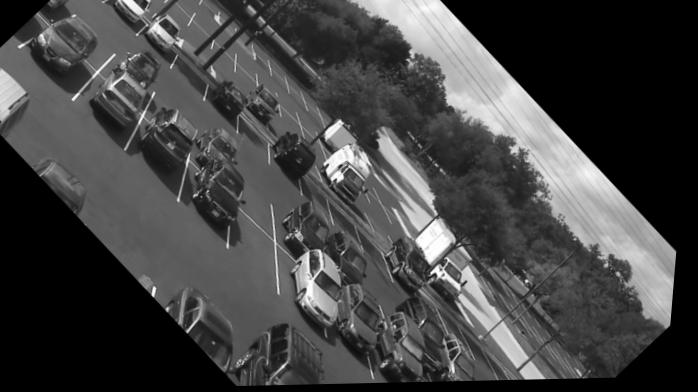empty: (94, 203, 166, 297), (237, 210, 285, 296), (169, 53, 211, 104), (81, 7, 126, 53), (364, 234, 395, 281), (249, 175, 276, 226), (471, 337, 501, 382), (333, 203, 365, 245), (161, 88, 195, 123), (243, 120, 269, 163), (367, 185, 393, 222), (444, 310, 471, 345), (308, 181, 335, 215), (489, 353, 519, 383), (187, 18, 212, 52), (213, 42, 237, 77), (163, 0, 191, 29), (376, 283, 401, 315), (214, 30, 238, 61), (283, 109, 305, 139), (306, 129, 327, 160), (194, 11, 217, 39), (236, 63, 258, 89), (238, 51, 258, 79), (302, 111, 322, 138), (281, 93, 301, 119), (260, 69, 278, 97), (174, 0, 199, 19), (256, 43, 271, 74), (308, 100, 325, 125), (199, 0, 219, 21), (274, 66, 289, 93), (274, 121, 296, 137), (292, 84, 306, 108), (219, 70, 235, 85), (154, 0, 170, 7), (193, 0, 203, 8)
occupied: (173, 277, 241, 379), (29, 11, 103, 81), (246, 325, 328, 387), (290, 250, 348, 332), (141, 108, 200, 183), (91, 65, 152, 136), (197, 158, 248, 234), (35, 151, 94, 216), (379, 314, 432, 385), (0, 65, 44, 141), (387, 239, 442, 299), (343, 286, 385, 363), (324, 144, 374, 208), (405, 299, 451, 361), (271, 133, 319, 191), (327, 228, 373, 286), (284, 202, 333, 254), (443, 336, 480, 384), (196, 129, 239, 169), (213, 81, 249, 124), (247, 85, 283, 126), (145, 16, 181, 55), (127, 53, 161, 84), (113, 0, 151, 25), (54, 0, 67, 8)
